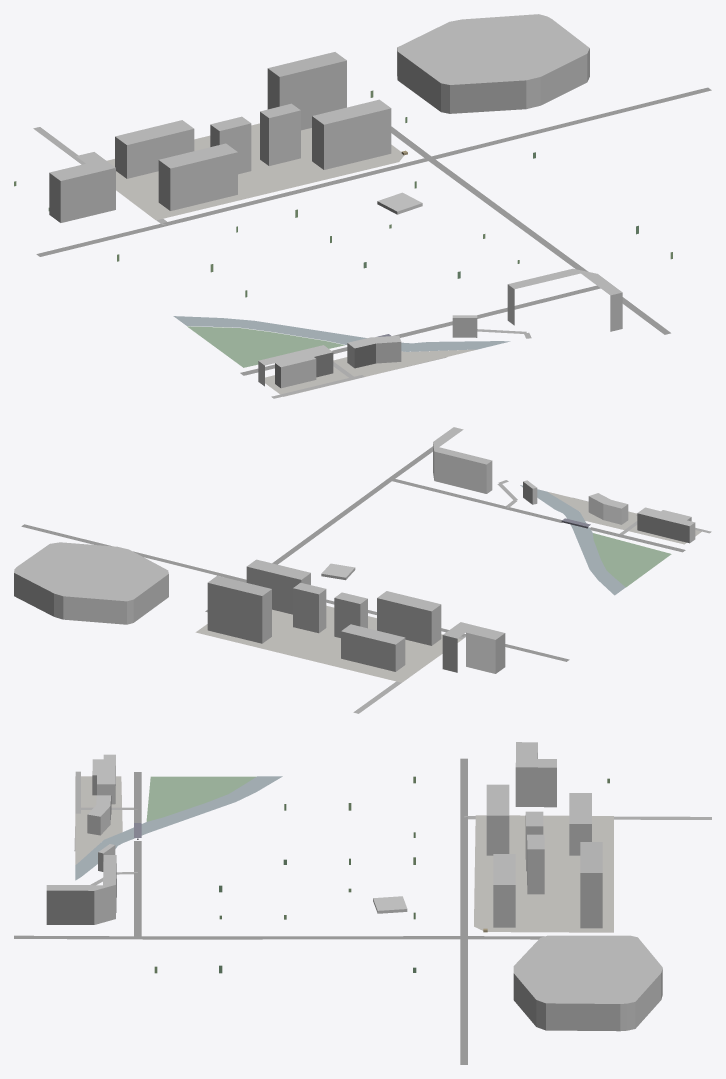
The picture shows the model from 3 angles, top to bottom: view 1: azimuth 30°, elevation 25°; view 2: azimuth 150°, elevation 25°; view 3: azimuth 270°, elevation 25°; orthographic projection. The views are drawn at different scales.
Size of the model in its own units: 678 by 57.42 by 648.
